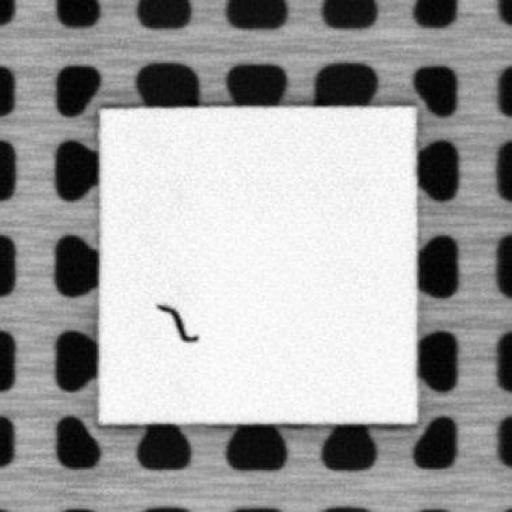DIE_INK: (156, 301, 198, 341)
